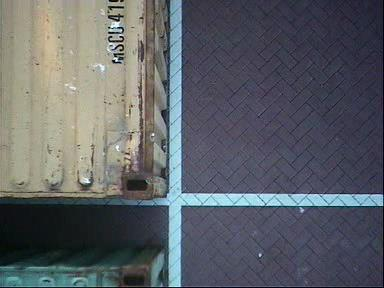groundmarker_2: (164, 125, 238, 235)
